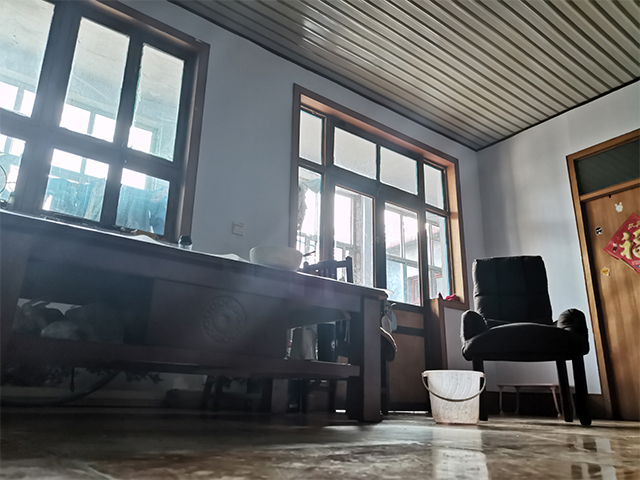stool: (455, 252, 594, 428)
table: (1, 208, 390, 425)
trashcan: (419, 367, 488, 426)
